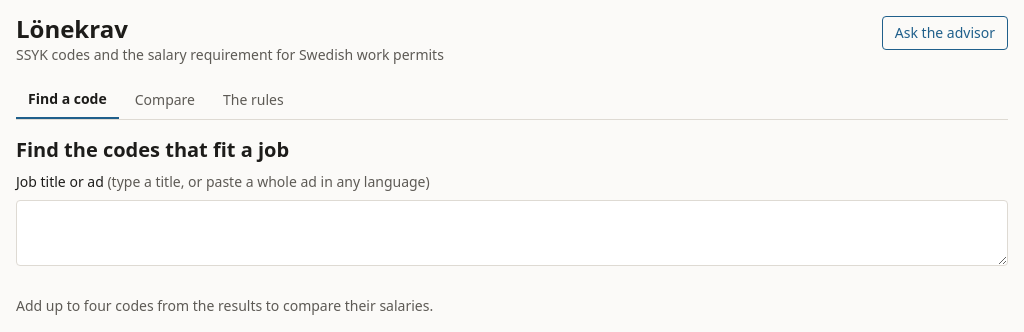
Test: App › writes the view to the address
Step 1. Click the button "Compare" → (165, 100), box [123, 81, 207, 119]
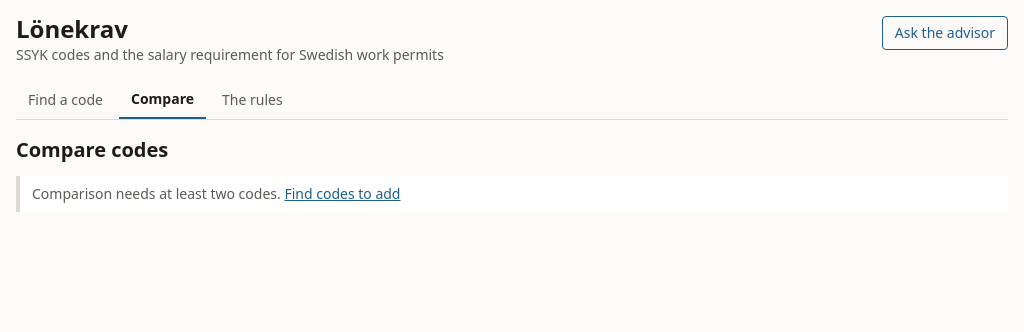
Expected: the heading "Compare codes" is shown, [16, 136, 168, 163]
